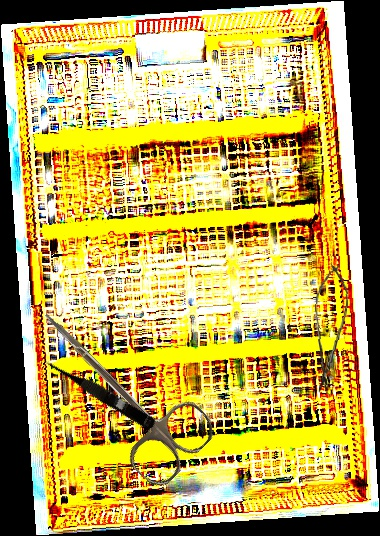Iris Scissors: (11, 286, 222, 493)
Micro Scissor: (40, 351, 159, 433), (307, 260, 352, 396)
